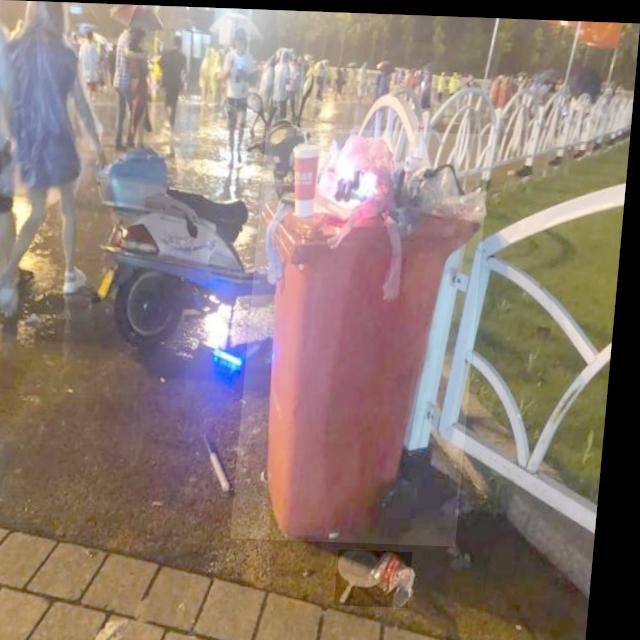garbage: (345, 546, 423, 605)
overflow: (240, 124, 494, 542)
